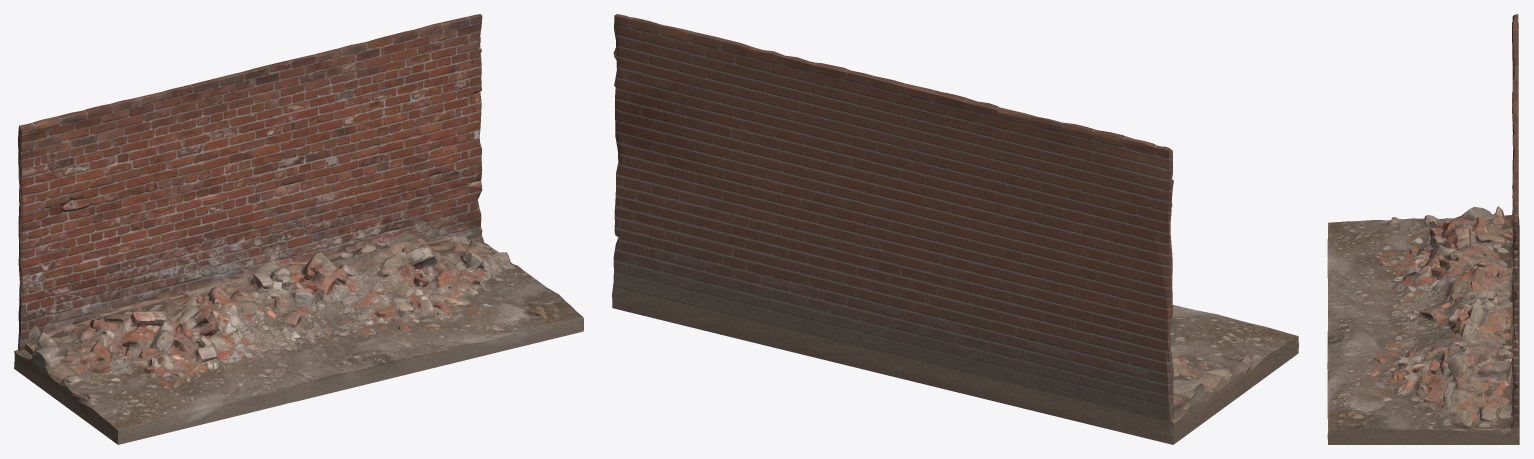
File: baustelle_rubble.glb
3 renders of one model, left to right at view 1: azimuth 30°, elevation 25°; view 2: azimuth 150°, elevation 25°; view 3: azimuth 270°, elevation 25°, orthographic. The views are drawn at different scales.
Parts seen in each view (by area): view 1: Mesh0; view 2: Mesh0; view 3: Mesh0.
Part boxes in pixels (x1,y1,x2,y2): Mesh0: [14, 14, 583, 444]; Mesh0: [612, 14, 1298, 444]; Mesh0: [1327, 14, 1519, 444].
Bounding box in the file's own units: 1.9 × 0.9505 × 0.74.
Materials: 1 (1 with a texture image).
